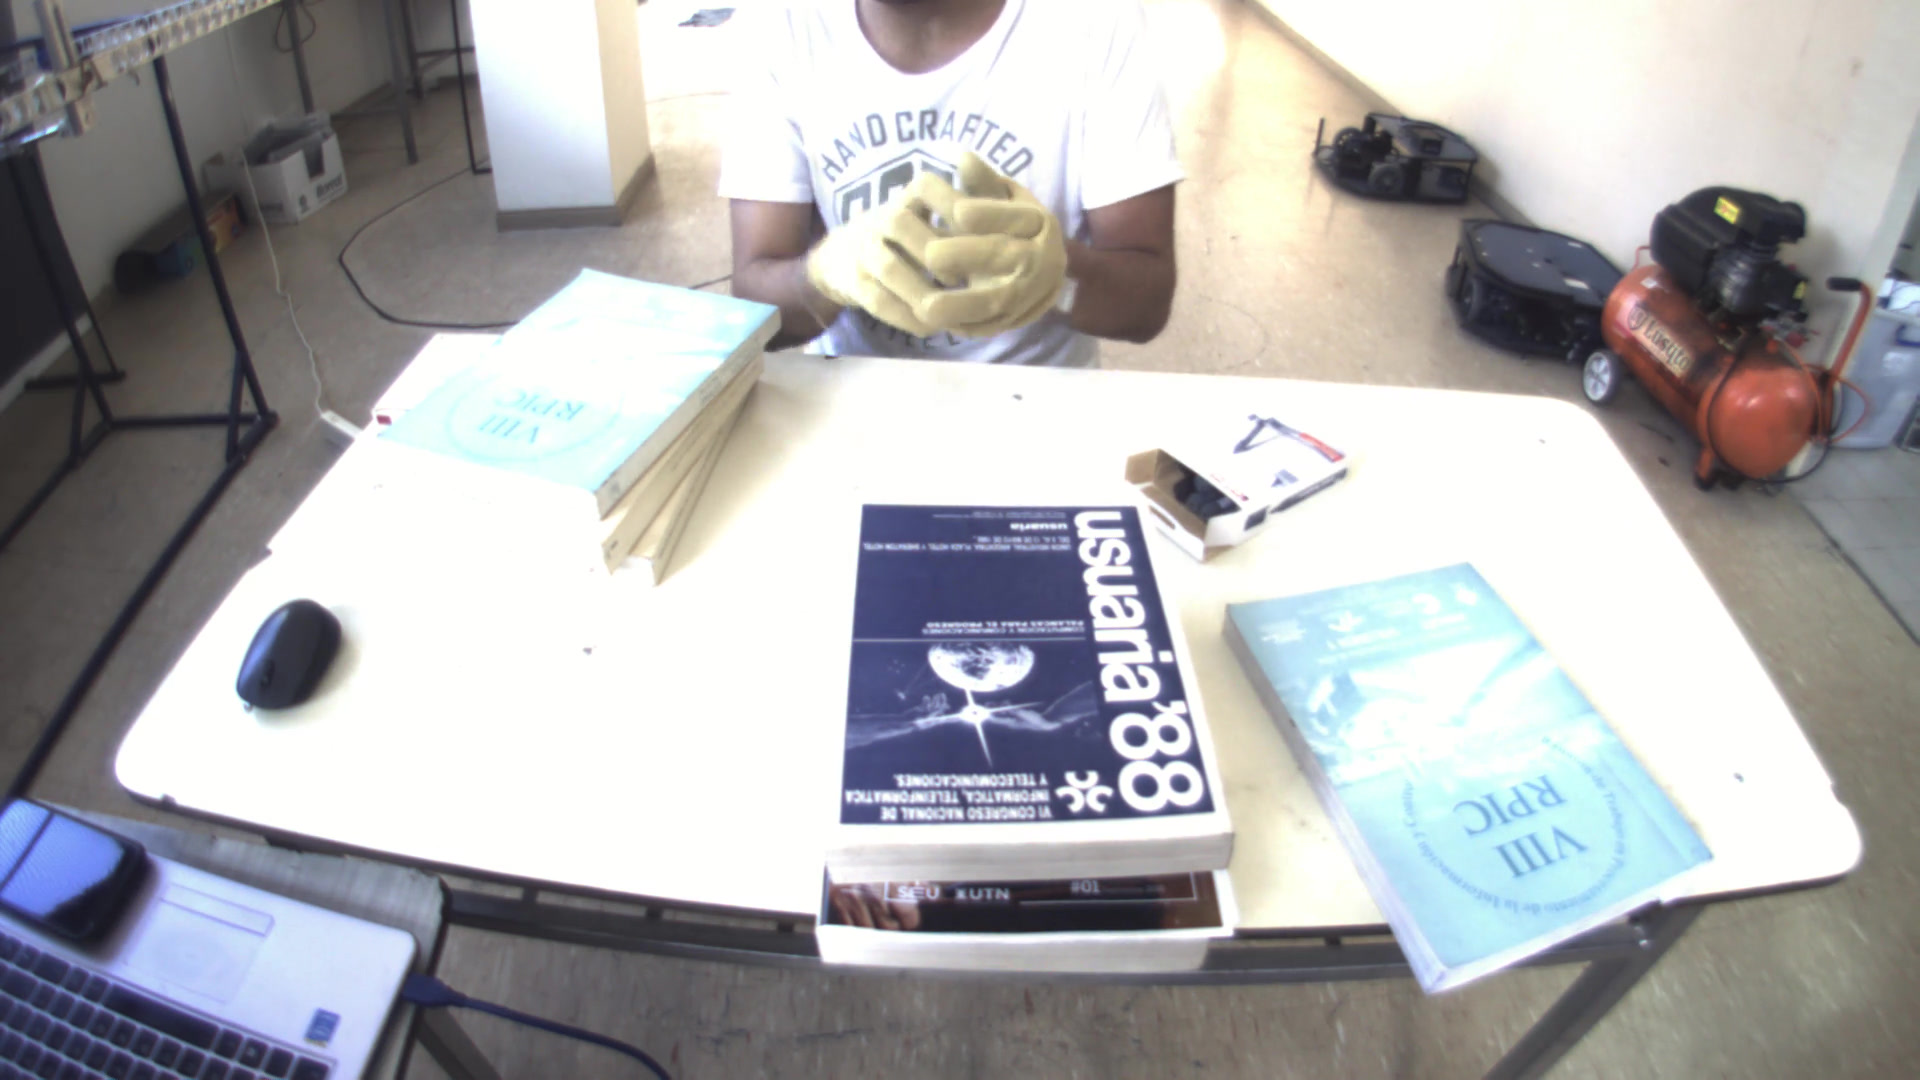hand: (795, 142, 957, 349), (934, 135, 1069, 349)
